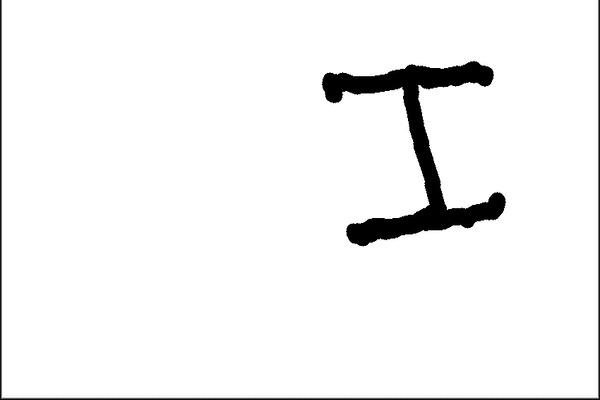i: (310, 57, 513, 246)
